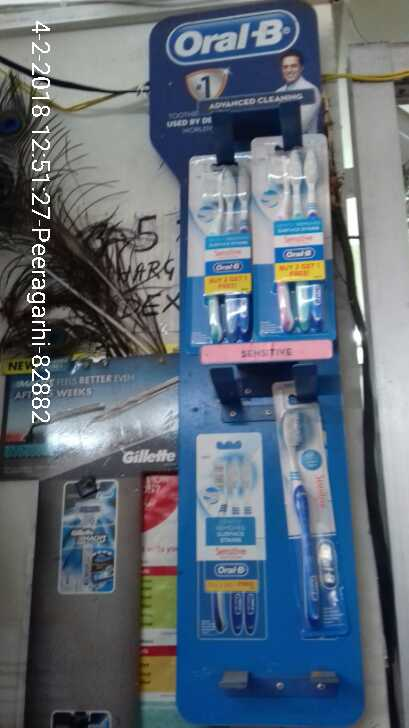oralb: (277, 406, 339, 644), (266, 152, 328, 336), (198, 169, 256, 340)
